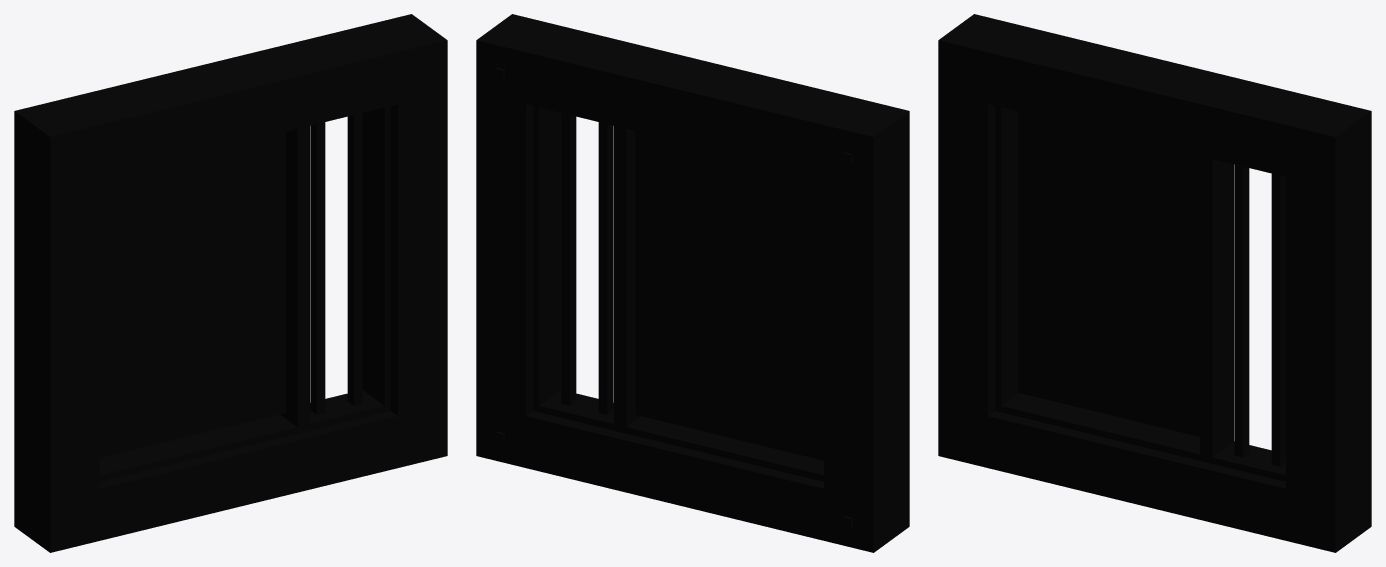
File: lab_window.obj
3 renders of one model, left to right at view 1: azimuth 30°, elevation 25°; view 2: azimuth 150°, elevation 25°; view 3: azimuth 330°, elevation 25°, orthographic.
Bounding box in the file's own units: 0.875 × 0.875 × 0.1436.
